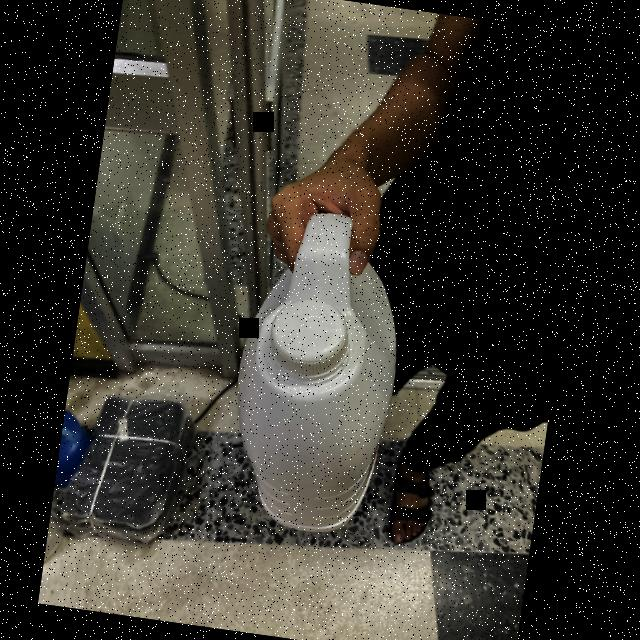chemical_plastic_gallon: (218, 200, 418, 542)
